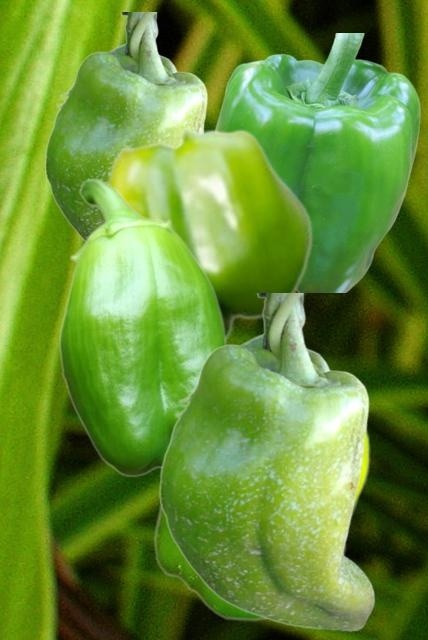bell_pepper: (158, 293, 374, 630), (215, 33, 419, 291), (58, 178, 226, 476), (105, 126, 312, 342), (153, 422, 369, 620), (44, 12, 208, 240)
